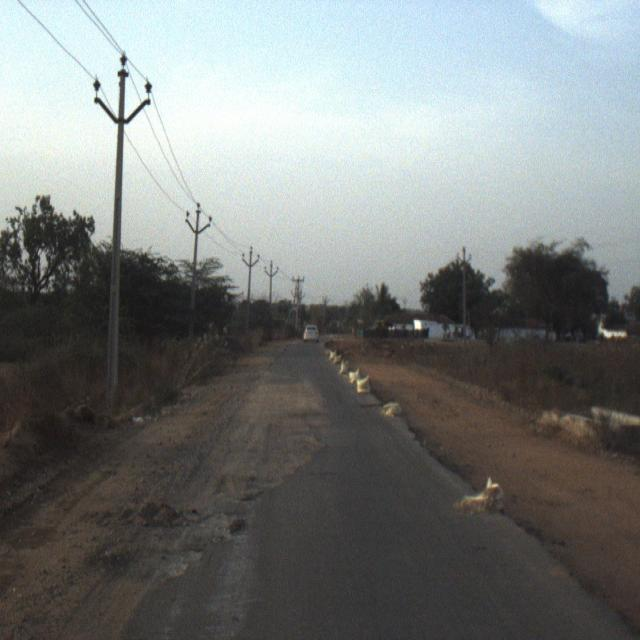Pothole: (95, 496, 254, 635), (235, 363, 333, 491), (168, 403, 226, 488)
